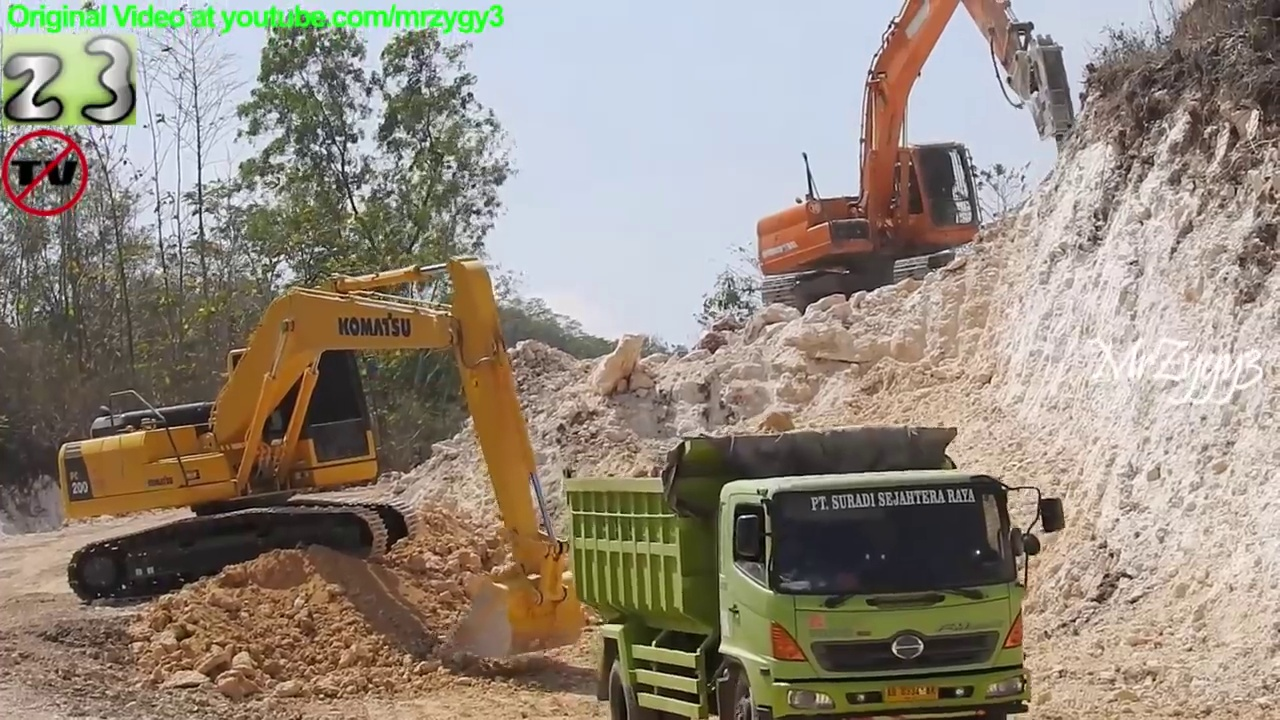excavator: (50, 248, 591, 668), (748, 1, 1092, 331)
truck: (557, 420, 1080, 720)
